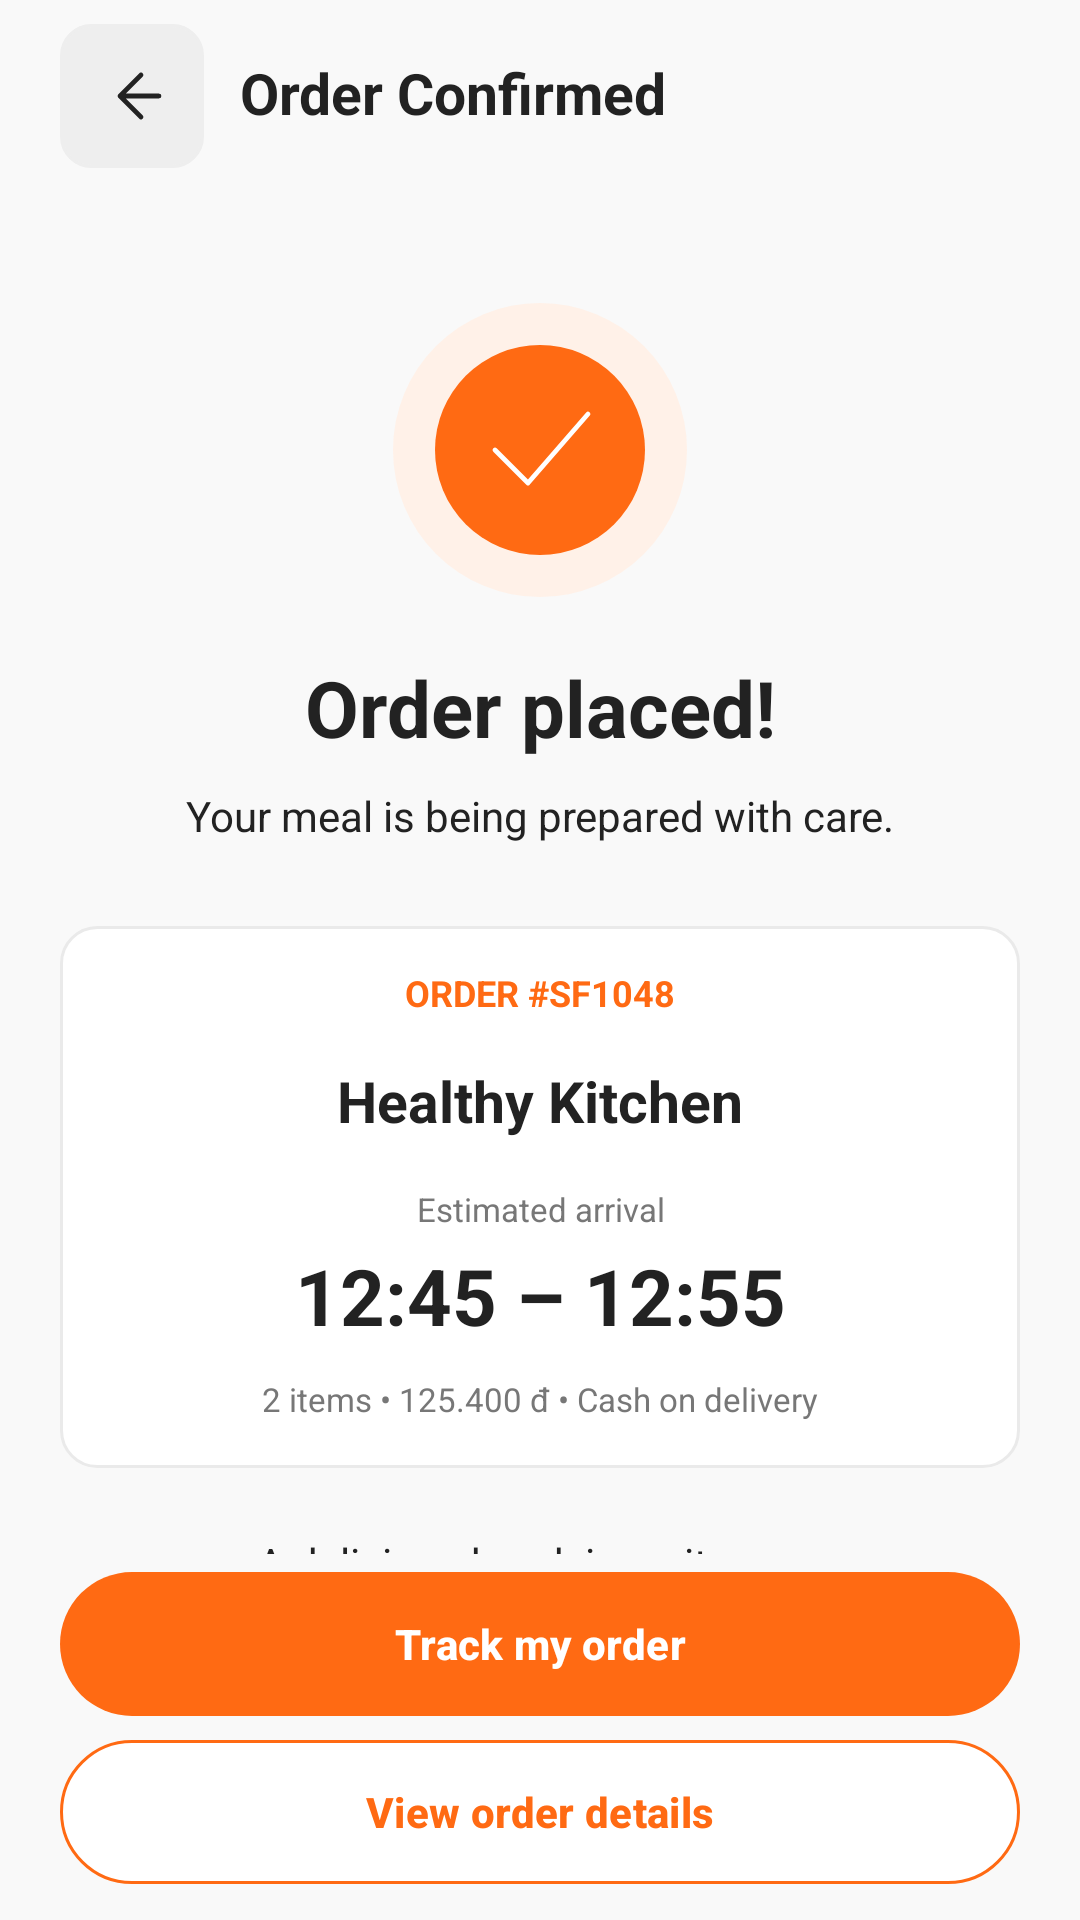

Icon click points for this 1080×1920 phone screenshot, format [x,y]:
Back: [132,96]
tv success: [540,450]
